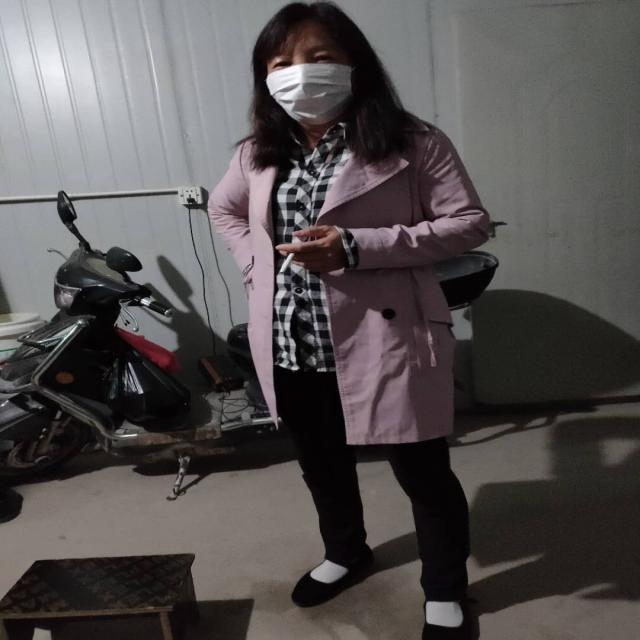cigarette: (275, 246, 301, 276)
